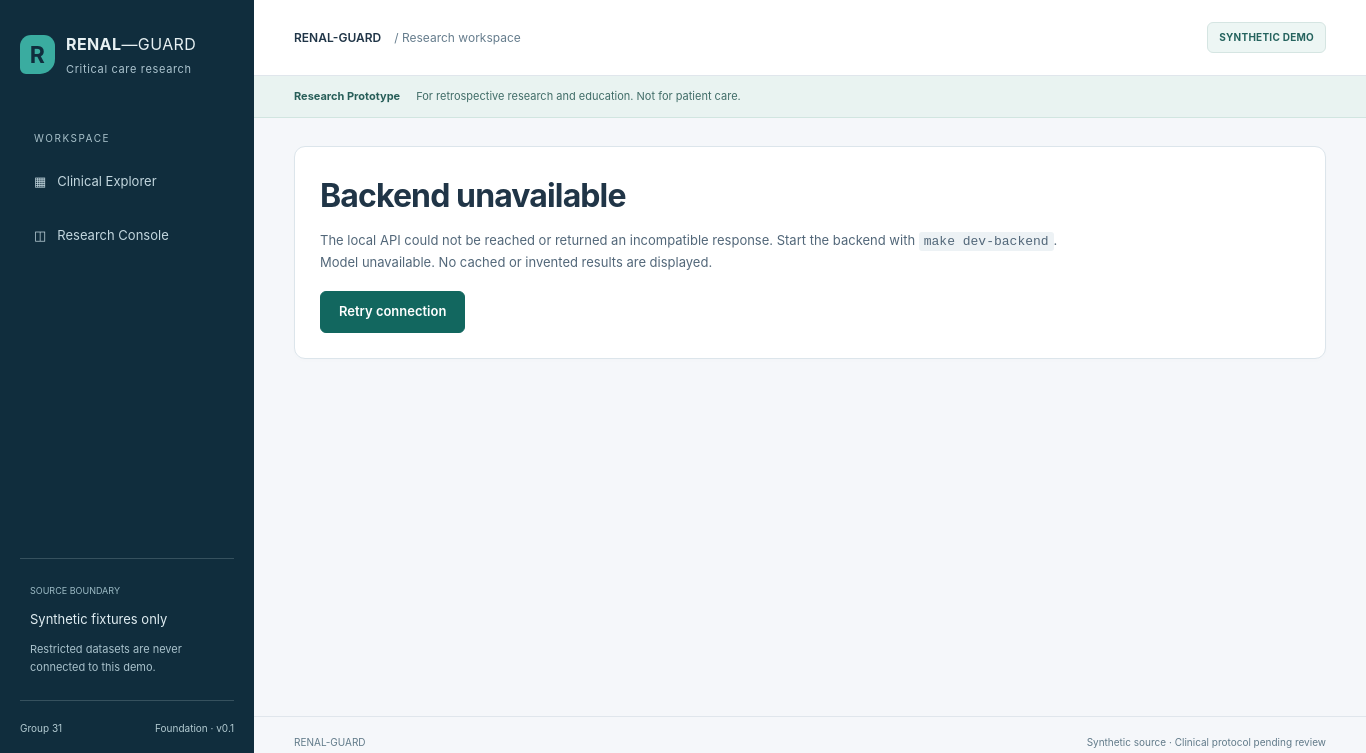
Test case: failed backend shows no example data and supports retry
Expected: the message shows "Backend unavailable", [320,176,626,214]
Expected: the text "Example A" is not shown
Click the button "Retry connection" at x=393, y=312, box [320,291,465,333]
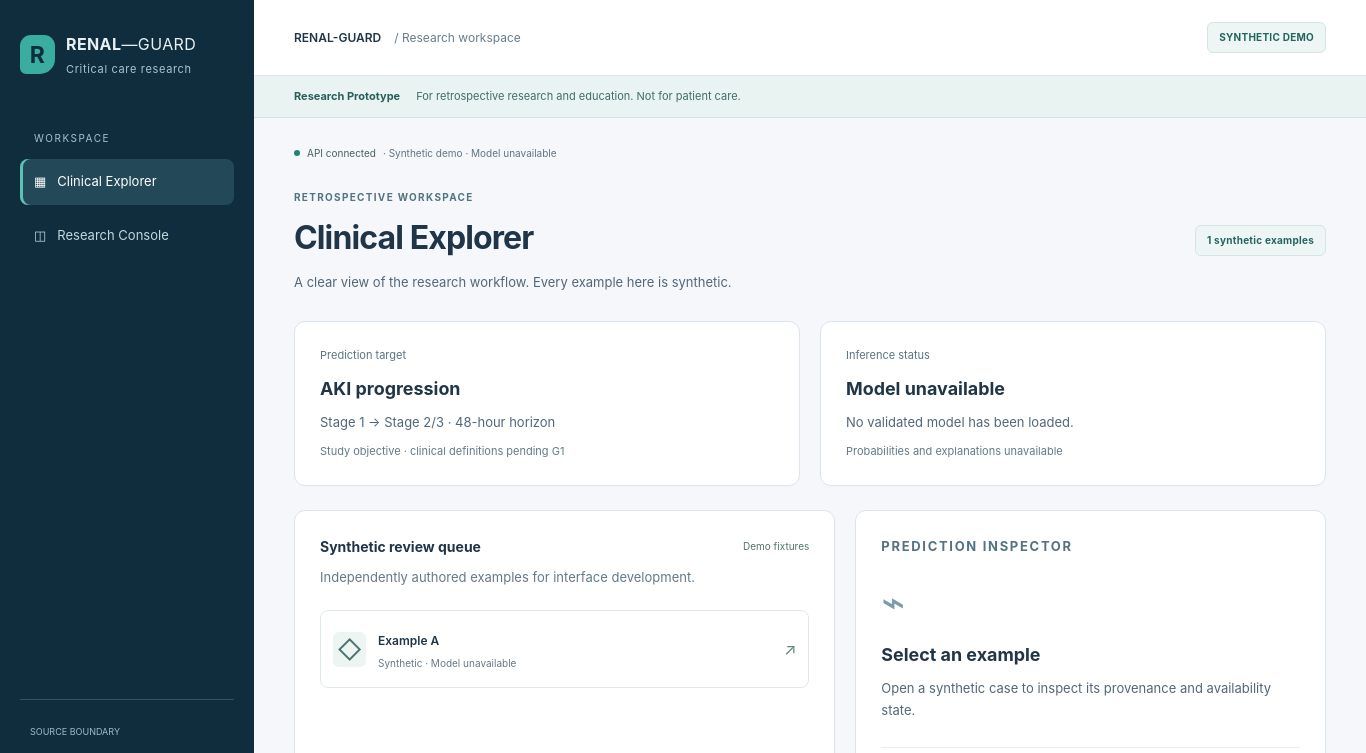
Expected: the button "◇ Example A Synthetic · Model unavailable ↗" is shown, [320,610,809,688]
